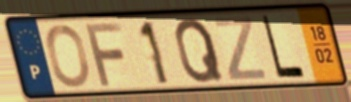1: (137, 18, 172, 87)
F: (82, 21, 125, 89)
L: (260, 14, 308, 80)
O: (44, 22, 92, 89)
Q: (173, 16, 226, 86)
Z: (211, 15, 268, 83)
